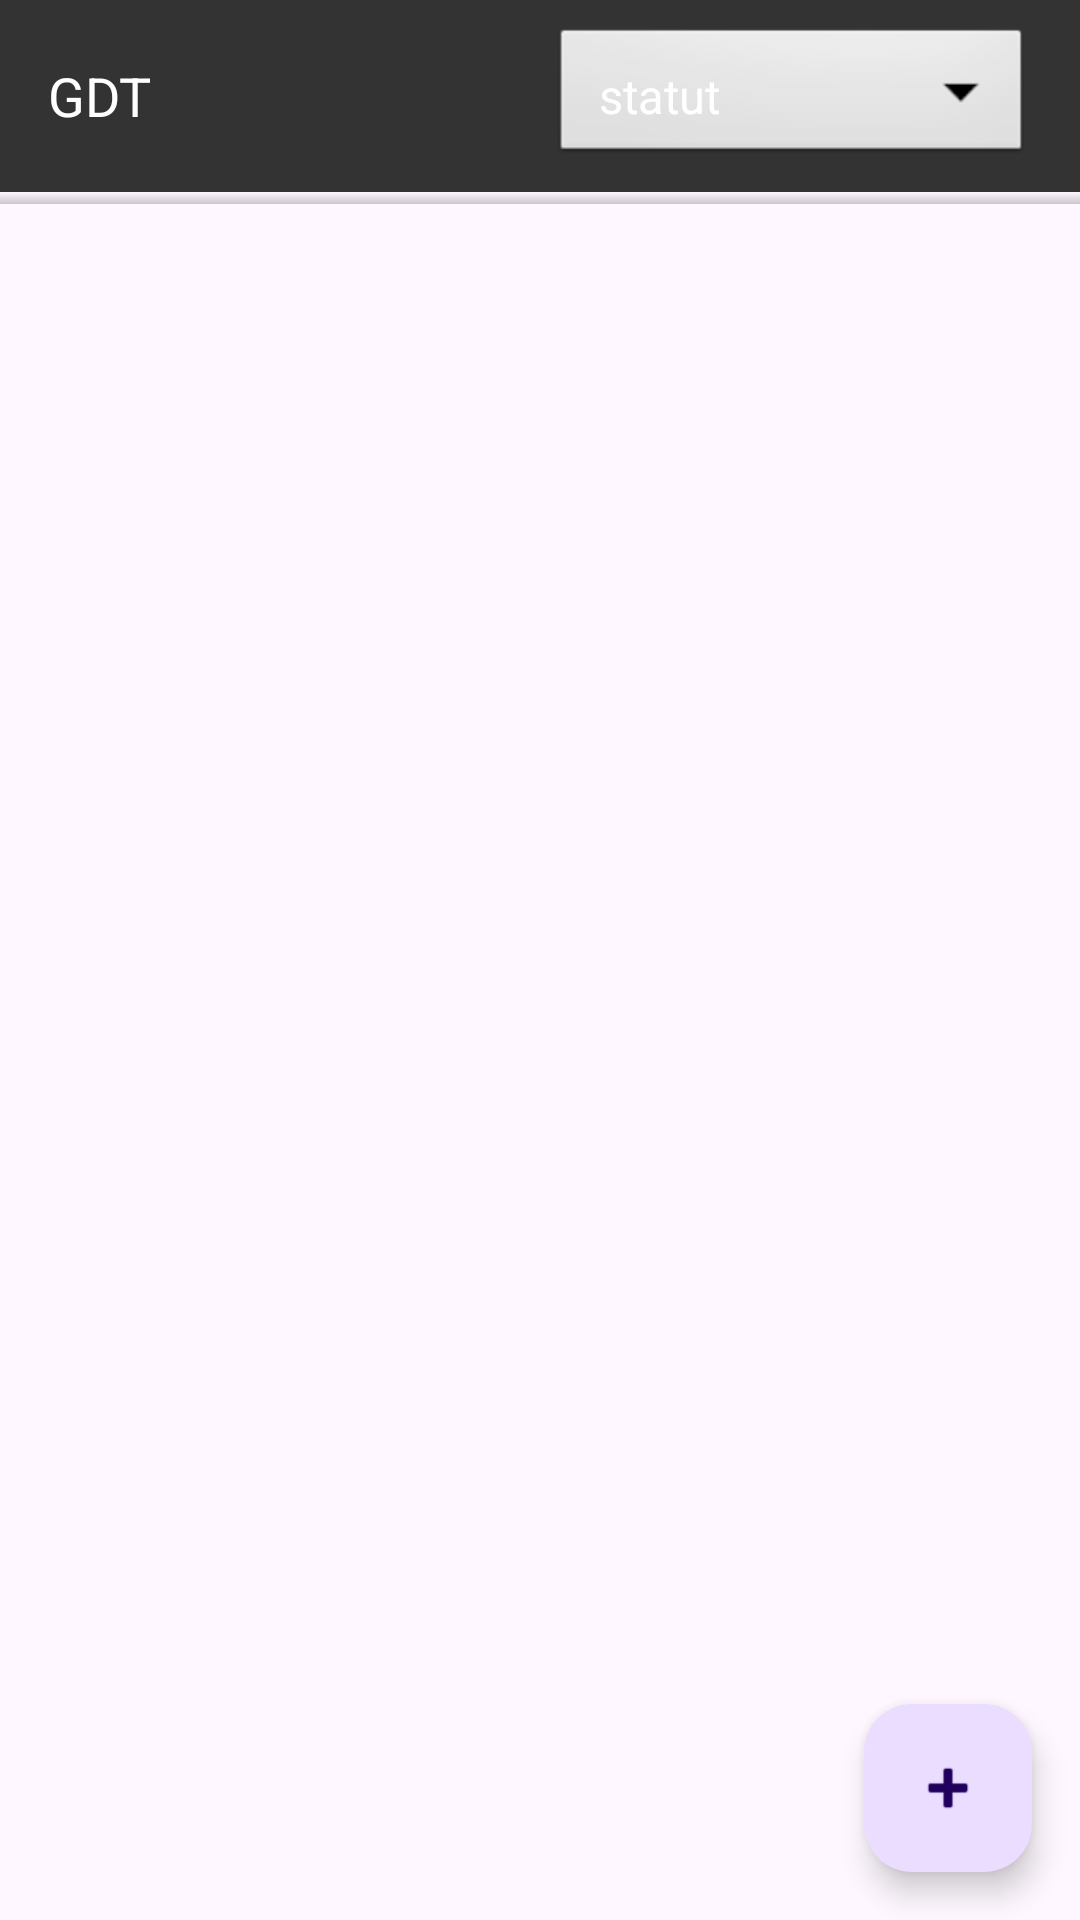

Icons on this 1080 x 1920 Android screen, each with the point to tap as (x=x, y=y):
Ajouter une tâche: (x=948, y=1788)
